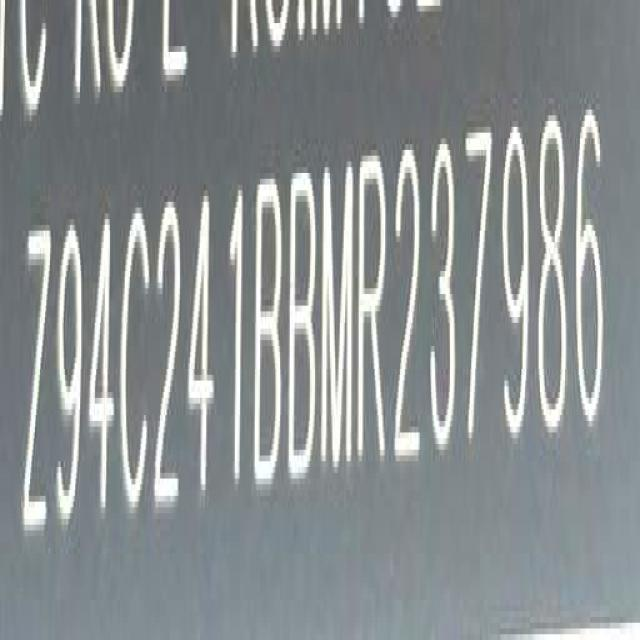1: (225, 181, 248, 506)
2: (155, 191, 187, 523), (395, 147, 426, 475)
3: (429, 137, 458, 464)
4: (89, 215, 118, 534), (190, 188, 218, 516)
6: (575, 108, 607, 441)
7: (461, 119, 494, 456)
8: (538, 108, 570, 441)
9: (502, 126, 534, 450), (55, 220, 86, 541)
B: (254, 174, 285, 496), (290, 162, 320, 492)
C: (118, 203, 154, 527)
M: (319, 156, 356, 483)
R: (358, 148, 389, 475)
Z: (20, 223, 51, 557)
